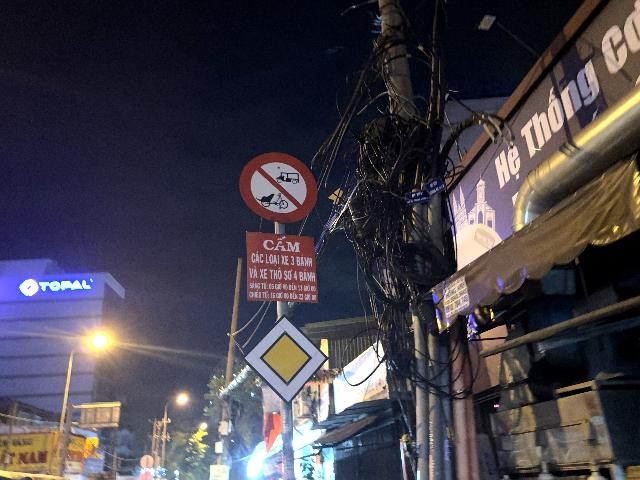bat-dau-duong-uu-tien: (243, 313, 331, 405)
cam-xe-3-banh-xe-tho-so-4-banh: (239, 152, 318, 223)
